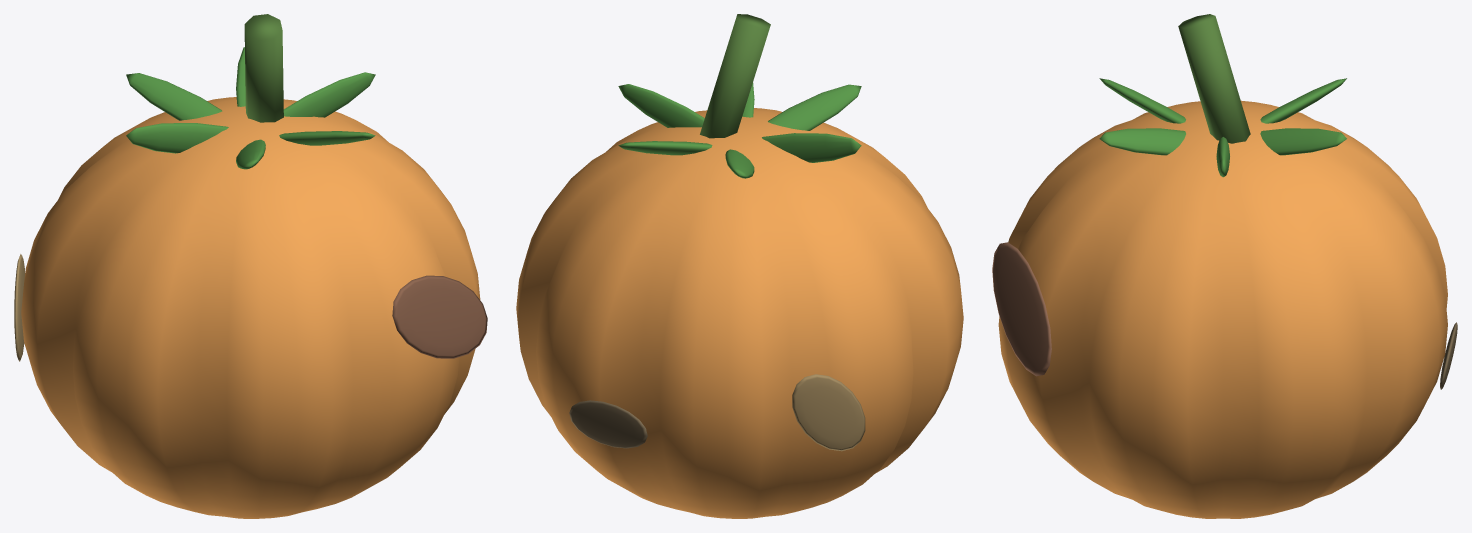
File: tomato_lite_rotten.glb
3 views of the same model, side by side, from view 1: azimuth 30°, elevation 25°; view 2: azimuth 150°, elevation 25°; view 3: azimuth 270°, elevation 25° (orthographic). The views are drawn at different scales.
Parts seen in each view (by area): view 1: grooved_tomato_body, rotten_patch_0, stem, sepal.002, sepal.003, sepal, sepal.005, rotten_patch_1, sepal.004; view 2: grooved_tomato_body, stem, rotten_patch_1, rotten_patch_2, sepal.004, sepal.003, sepal, sepal.001, sepal.002; view 3: grooved_tomato_body, rotten_patch_0, stem, sepal.001, sepal.005, sepal.004, sepal.002.
Boxes of the visible parts, x1=… form: grooved_tomato_body: x1=21, y1=97, x2=480, y2=518; rotten_patch_0: x1=392, y1=275, x2=487, y2=358; stem: x1=244, y1=14, x2=283, y2=122; sepal.002: x1=126, y1=73, x2=222, y2=120; sepal.003: x1=126, y1=123, x2=228, y2=153; sepal: x1=283, y1=72, x2=375, y2=117; sepal.005: x1=279, y1=131, x2=375, y2=145; rotten_patch_1: x1=14, y1=254, x2=25, y2=361; sepal.004: x1=236, y1=139, x2=265, y2=169; grooved_tomato_body: x1=516, y1=108, x2=963, y2=518; stem: x1=700, y1=14, x2=770, y2=138; rotten_patch_1: x1=792, y1=374, x2=865, y2=451; rotten_patch_2: x1=569, y1=400, x2=647, y2=448; sepal.004: x1=768, y1=84, x2=861, y2=130; sepal.003: x1=762, y1=133, x2=861, y2=162; sepal: x1=618, y1=84, x2=704, y2=127; sepal.001: x1=618, y1=141, x2=712, y2=155; sepal.002: x1=725, y1=149, x2=754, y2=178; grooved_tomato_body: x1=998, y1=100, x2=1447, y2=518; rotten_patch_0: x1=992, y1=242, x2=1051, y2=376; stem: x1=1178, y1=14, x2=1250, y2=143; sepal.001: x1=1260, y1=128, x2=1346, y2=155; sepal.005: x1=1099, y1=128, x2=1185, y2=155; sepal.004: x1=1099, y1=78, x2=1185, y2=123; sepal.002: x1=1260, y1=78, x2=1346, y2=123.
Size of the model in its own units: 1.97 by 2.32 by 2.04.
